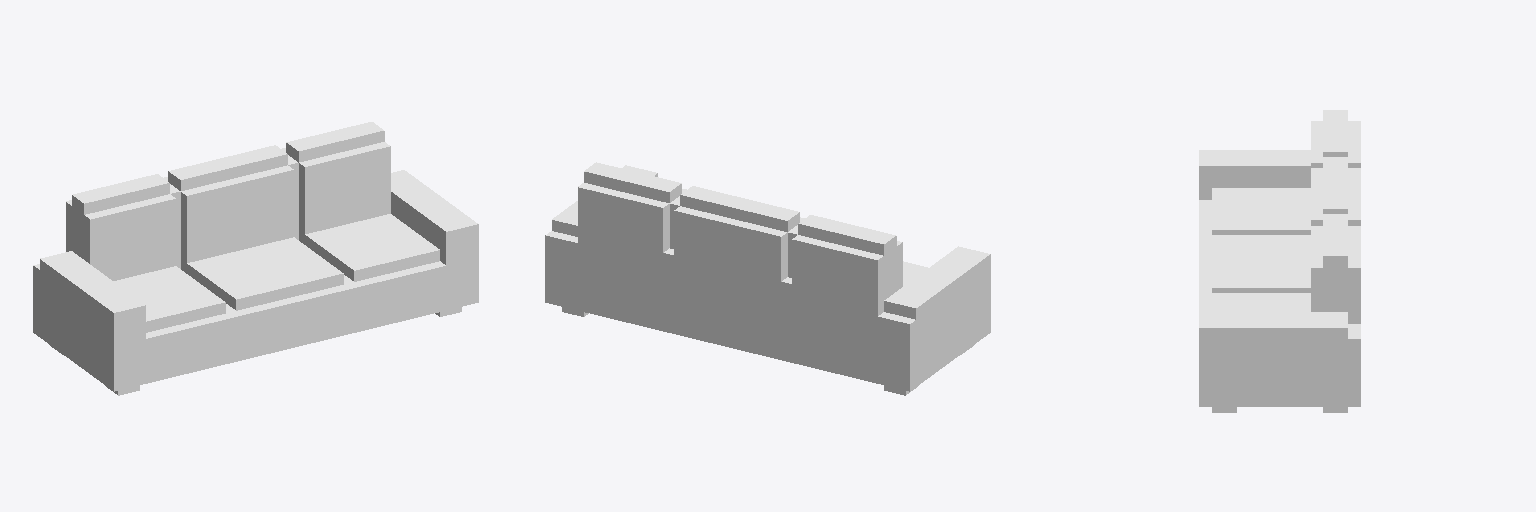
The model's file is Cannapé2(Factory-New).obj.
3 renders of one model, left to right at view 1: azimuth 30°, elevation 25°; view 2: azimuth 150°, elevation 25°; view 3: azimuth 270°, elevation 25°, orthographic.
Parts seen in each view (by area): view 1: object 1; view 2: object 1; view 3: object 1.
Boxes of the visible parts, <box> form: object 1: <box>33,122,478,395</box>; object 1: <box>545,162,990,395</box>; object 1: <box>1199,110,1360,412</box>.
Size of the model in its own units: 3.4 by 1.3 by 1.3.